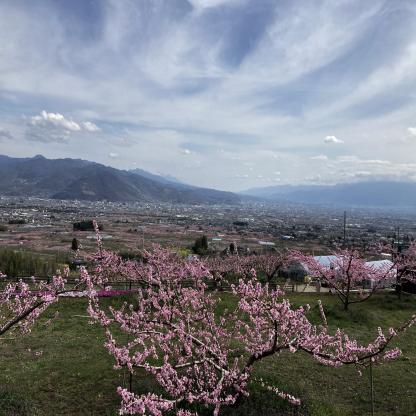Momo: (67, 219, 416, 416), (0, 257, 79, 340), (295, 243, 388, 300), (114, 244, 199, 292), (376, 235, 416, 297), (196, 243, 250, 286), (245, 245, 302, 282)
